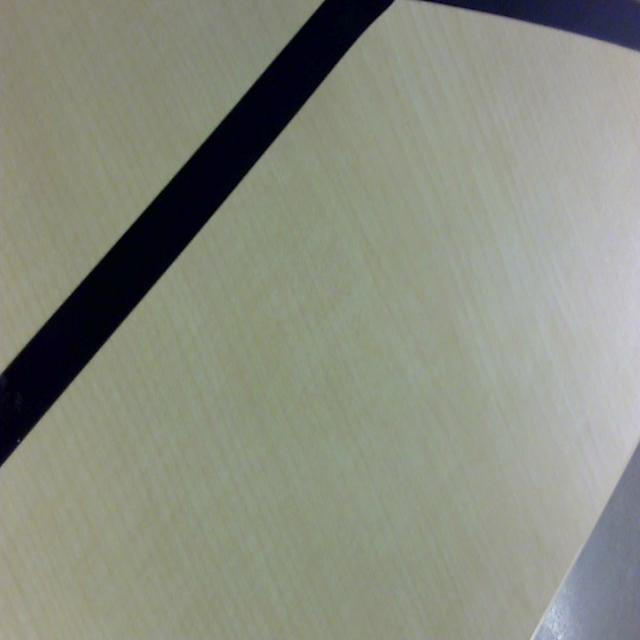tape: (0, 0, 404, 472)
